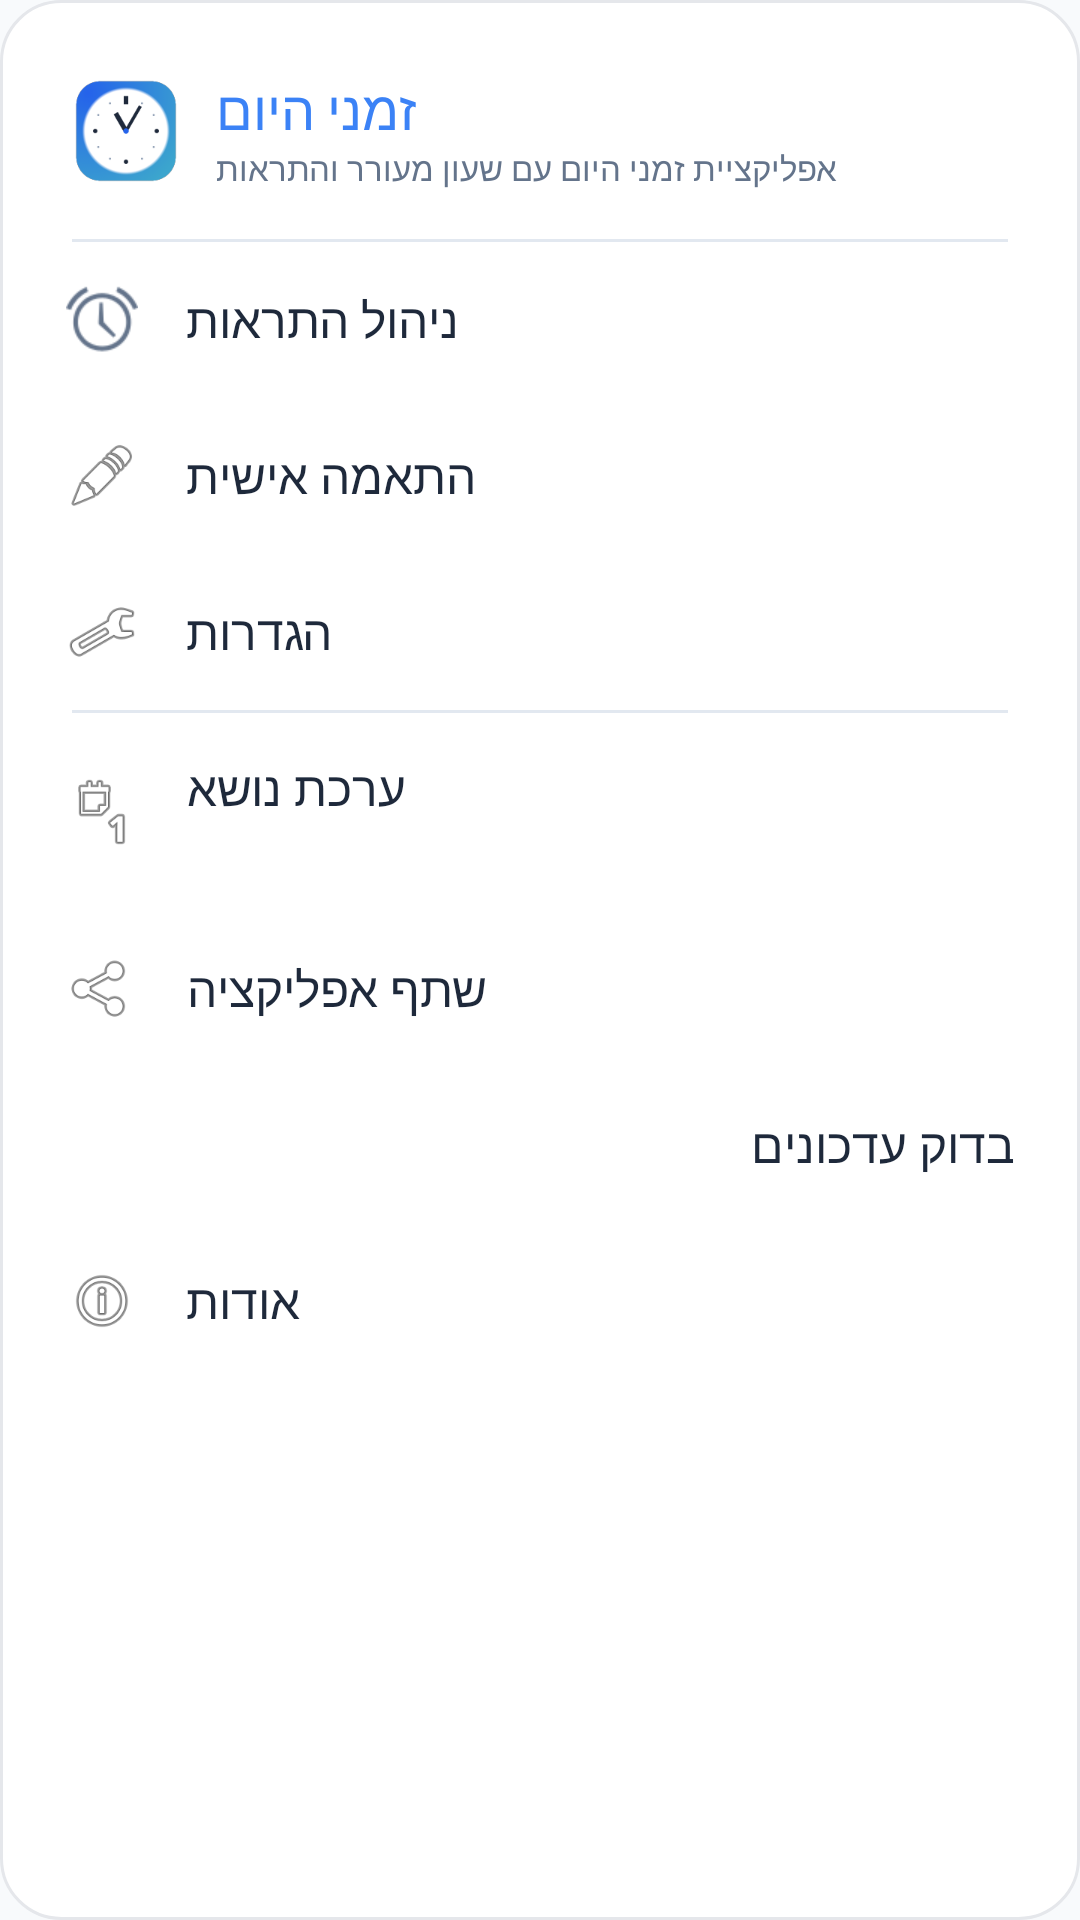

Icon click points for this 1080x1920 phone screenshot, format (x,y):
day: (101,812)
edit: (101,475)
info details: (102,1301)
preferences: (101,632)
share: (98,988)
